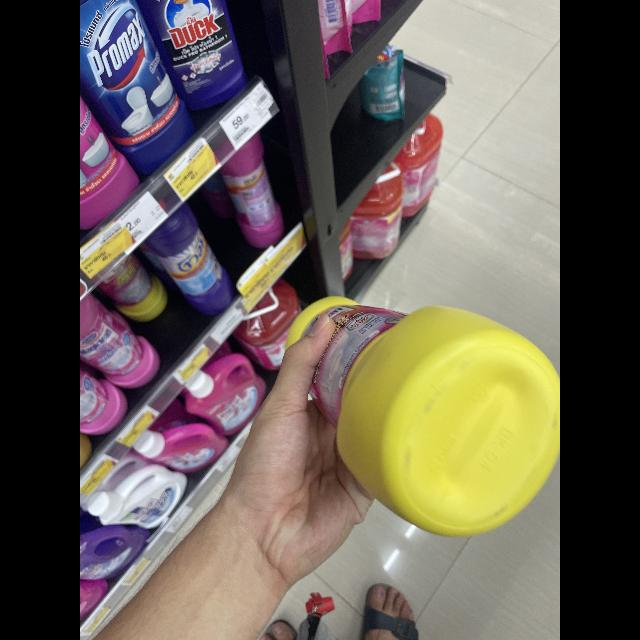chemical_plastic_bottle: (280, 288, 560, 546)
